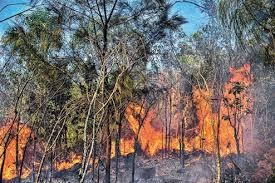fire: (121, 64, 253, 160), (0, 116, 33, 179), (53, 152, 83, 171)
